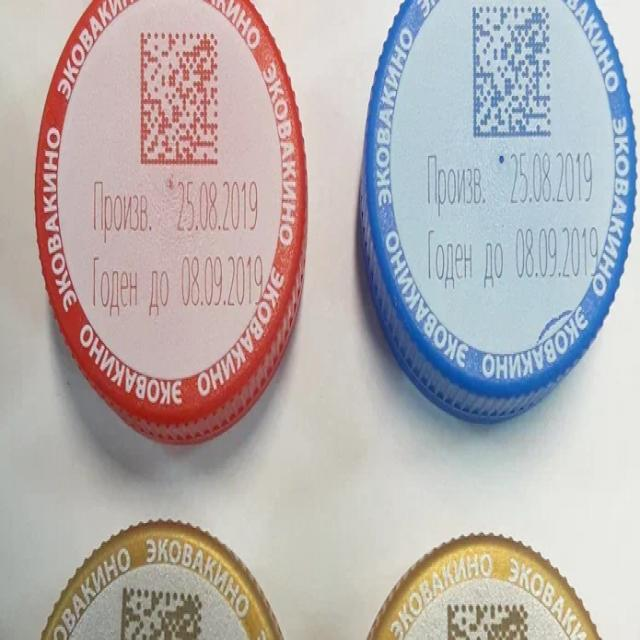datamatrix: (140, 31, 222, 170), (472, 3, 554, 139), (120, 584, 204, 640), (447, 602, 531, 640)
